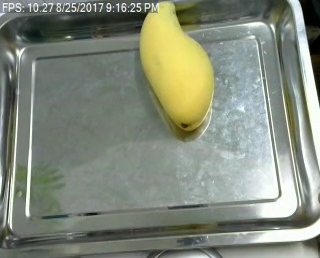Mango: (132, 0, 218, 134)
